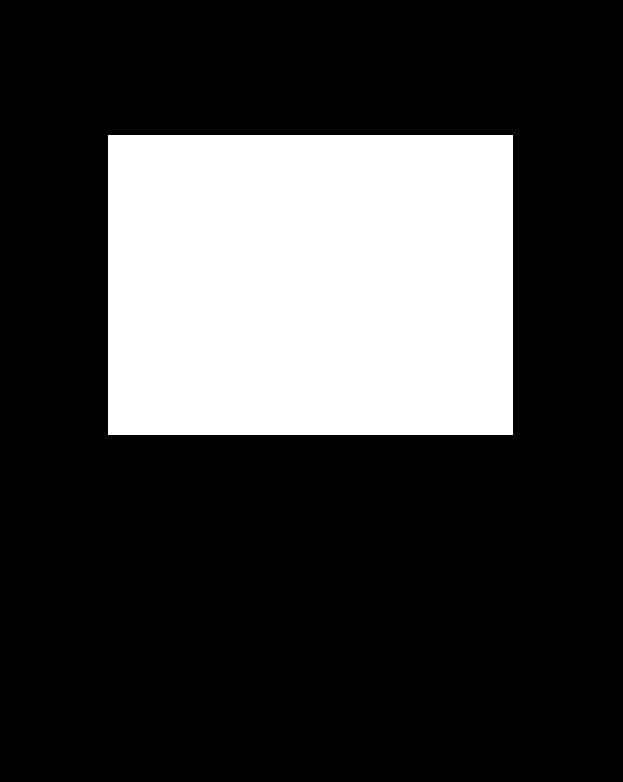table: (108, 135, 512, 434)
